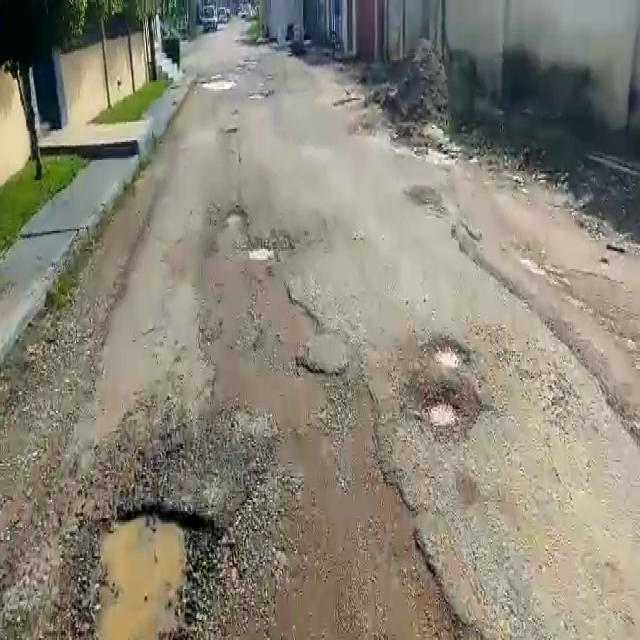Pothole: (87, 509, 216, 640), (432, 335, 471, 373), (424, 389, 456, 434), (248, 244, 276, 262), (226, 207, 247, 225)
